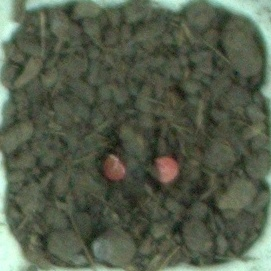pepper seed: (62, 63, 243, 248), (38, 61, 167, 244)
